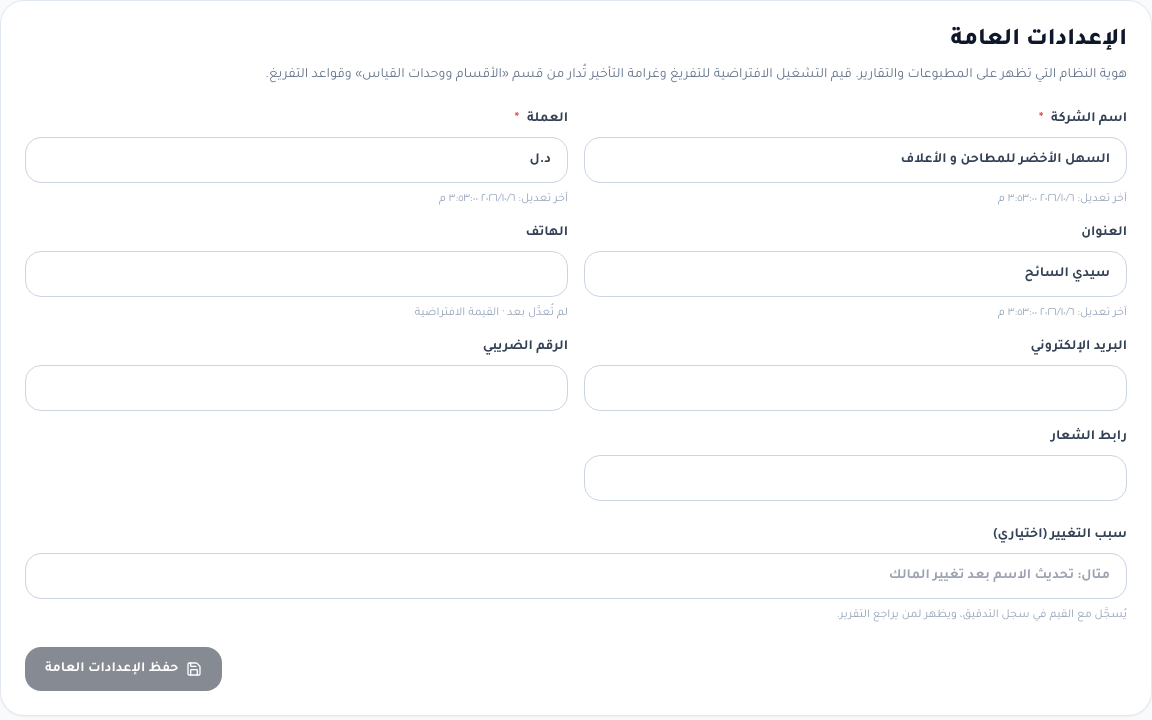
GeneralSettings › keeps saving disabled until something actually changes
The width and height of the screenshot is (1152, 720).
Expected: the button "حفظ الإعدادات العامة" is disabled, 25,647 -> 222,691
Step 1. Replace the text in the field showing "د.ل" with "ج.م" → (296, 160), box 25,137 -> 568,183
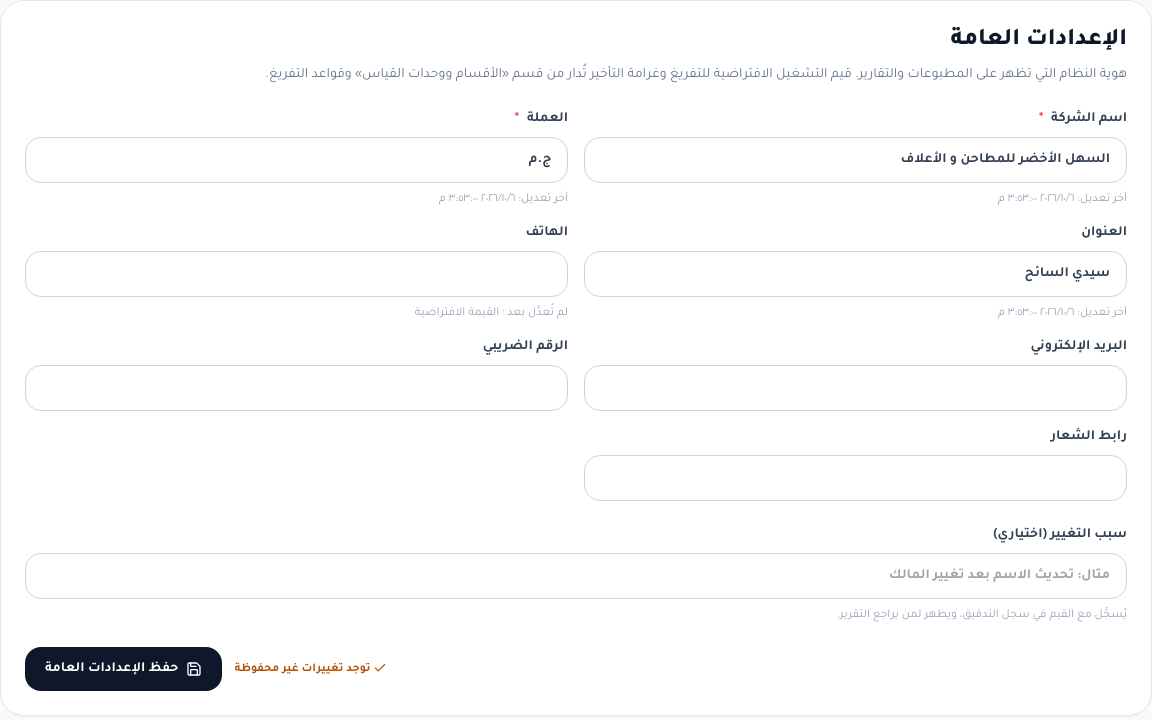
Expected: the button "حفظ الإعدادات العامة" is enabled, 25,647 -> 222,691
